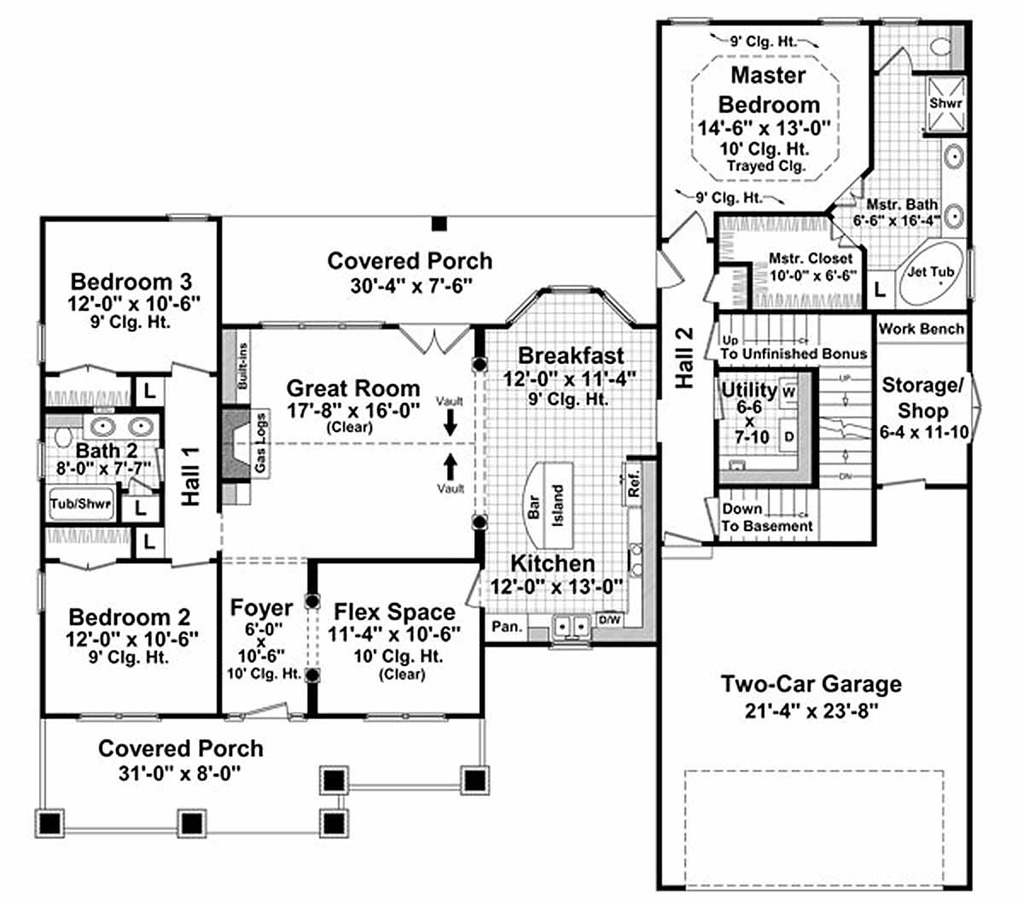door: (397, 315, 477, 359), (664, 208, 719, 246), (49, 556, 132, 580), (242, 697, 298, 728), (873, 46, 916, 86), (660, 528, 709, 562), (828, 176, 873, 211), (702, 309, 728, 366), (964, 381, 991, 435), (823, 221, 861, 255), (657, 249, 685, 295), (166, 355, 215, 381), (63, 359, 120, 381), (701, 267, 728, 311), (468, 571, 491, 611)
kitchen_bar: (508, 457, 592, 579)
large_sink: (40, 405, 92, 462), (926, 25, 963, 64)
small_sink: (942, 135, 971, 243), (78, 405, 159, 438)
stairs: (730, 314, 875, 490), (718, 484, 878, 542)
tub: (892, 225, 968, 311), (44, 483, 128, 532)
twin_sink: (537, 605, 601, 655)
window: (506, 281, 643, 331), (368, 707, 451, 725), (30, 321, 57, 373), (159, 208, 220, 231), (77, 708, 171, 721)
